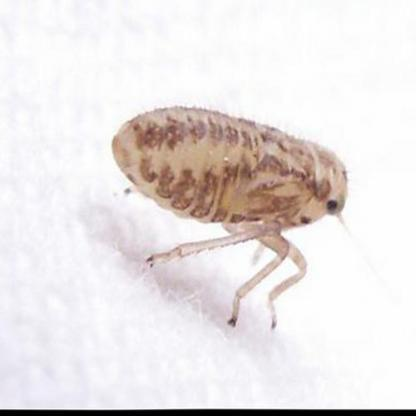brown-planthopper: (108, 96, 352, 272)
